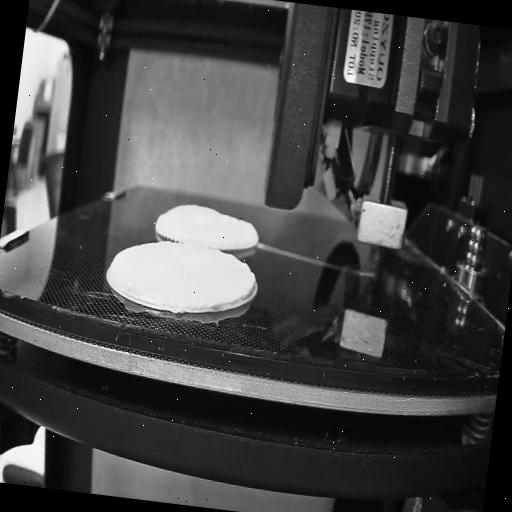over_extrusion: (240, 268, 260, 300)
